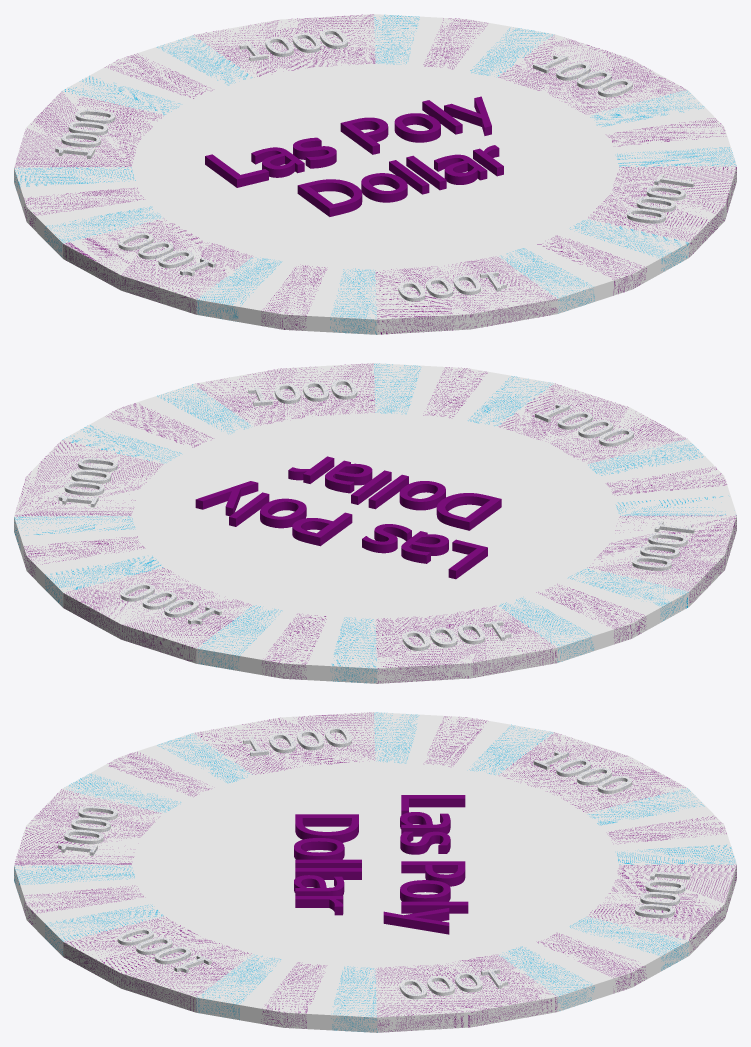
Rendered from thousandLPD.obj.
3 views of the same model, one above another, from view 1: azimuth 30°, elevation 25°; view 2: azimuth 150°, elevation 25°; view 3: azimuth 270°, elevation 25° (orthographic).
Visible parts, largest first — view 1: Mesh139 Model, Mesh25 Las_Poly_Dollar_1_1 Model, Mesh21 Las_Poly_Dollar_1_1 Model, Mesh29 Las_Poly_Dollar_1_1 Model, Mesh19 Las_Poly_Dollar_1_1 Model, Mesh26 Las_Poly_Dollar_1_1 Model, Mesh22 Las_Poly_Dollar_1_1 Model, Mesh20 Las_Poly_Dollar_1_1 Model, Mesh18 Las_Poly_Dollar_1_1 Model, Mesh24 Las_Poly_Dollar_1_1 Model, Mesh28 Las_Poly_Dollar_1_1 Model, Mesh30 Las_Poly_Dollar_1_1 Model (+2 smaller); view 2: Mesh139 Model, Mesh25 Las_Poly_Dollar_1_1 Model, Mesh21 Las_Poly_Dollar_1_1 Model, Mesh19 Las_Poly_Dollar_1_1 Model, Mesh29 Las_Poly_Dollar_1_1 Model, Mesh26 Las_Poly_Dollar_1_1 Model, Mesh22 Las_Poly_Dollar_1_1 Model, Mesh24 Las_Poly_Dollar_1_1 Model, Mesh20 Las_Poly_Dollar_1_1 Model, Mesh18 Las_Poly_Dollar_1_1 Model, Mesh30 Las_Poly_Dollar_1_1 Model, Mesh28 Las_Poly_Dollar_1_1 Model (+2 smaller); view 3: Mesh139 Model, Mesh25 Las_Poly_Dollar_1_1 Model, Mesh21 Las_Poly_Dollar_1_1 Model, Mesh24 Las_Poly_Dollar_1_1 Model, Mesh22 Las_Poly_Dollar_1_1 Model, Mesh26 Las_Poly_Dollar_1_1 Model, Mesh19 Las_Poly_Dollar_1_1 Model, Mesh20 Las_Poly_Dollar_1_1 Model, Mesh29 Las_Poly_Dollar_1_1 Model, Mesh18 Las_Poly_Dollar_1_1 Model, Mesh23 Las_Poly_Dollar_1_1 Model, Mesh28 Las_Poly_Dollar_1_1 Model (+2 smaller).
Boxes of the visible parts, bbox=[...] form: Mesh139 Model: bbox=[14, 14, 736, 334]; Mesh25 Las_Poly_Dollar_1_1 Model: bbox=[297, 179, 362, 216]; Mesh21 Las_Poly_Dollar_1_1 Model: bbox=[340, 117, 388, 154]; Mesh29 Las_Poly_Dollar_1_1 Model: bbox=[434, 154, 487, 184]; Mesh19 Las_Poly_Dollar_1_1 Model: bbox=[251, 147, 304, 177]; Mesh26 Las_Poly_Dollar_1_1 Model: bbox=[361, 173, 407, 202]; Mesh22 Las_Poly_Dollar_1_1 Model: bbox=[394, 113, 440, 142]; Mesh20 Las_Poly_Dollar_1_1 Model: bbox=[293, 137, 336, 168]; Mesh18 Las_Poly_Dollar_1_1 Model: bbox=[205, 154, 268, 187]; Mesh24 Las_Poly_Dollar_1_1 Model: bbox=[444, 96, 491, 135]; Mesh28 Las_Poly_Dollar_1_1 Model: bbox=[406, 155, 446, 190]; Mesh30 Las_Poly_Dollar_1_1 Model: bbox=[473, 145, 503, 176]; Mesh139 Model: bbox=[14, 363, 736, 683]; Mesh25 Las_Poly_Dollar_1_1 Model: bbox=[436, 493, 501, 530]; Mesh21 Las_Poly_Dollar_1_1 Model: bbox=[292, 512, 352, 546]; Mesh19 Las_Poly_Dollar_1_1 Model: bbox=[401, 531, 448, 563]; Mesh29 Las_Poly_Dollar_1_1 Model: bbox=[325, 460, 372, 493]; Mesh26 Las_Poly_Dollar_1_1 Model: bbox=[399, 481, 445, 510]; Mesh22 Las_Poly_Dollar_1_1 Model: bbox=[260, 498, 306, 528]; Mesh24 Las_Poly_Dollar_1_1 Model: bbox=[195, 481, 258, 516]; Mesh20 Las_Poly_Dollar_1_1 Model: bbox=[362, 524, 411, 553]; Mesh18 Las_Poly_Dollar_1_1 Model: bbox=[448, 539, 487, 579]; Mesh30 Las_Poly_Dollar_1_1 Model: bbox=[288, 456, 334, 483]; Mesh28 Las_Poly_Dollar_1_1 Model: bbox=[351, 470, 391, 504]; Mesh139 Model: bbox=[14, 712, 736, 1032]; Mesh25 Las_Poly_Dollar_1_1 Model: bbox=[295, 814, 358, 842]; Mesh21 Las_Poly_Dollar_1_1 Model: bbox=[401, 861, 465, 886]; Mesh24 Las_Poly_Dollar_1_1 Model: bbox=[383, 908, 449, 934]; Mesh22 Las_Poly_Dollar_1_1 Model: bbox=[400, 880, 450, 901]; Mesh26 Las_Poly_Dollar_1_1 Model: bbox=[294, 838, 344, 859]; Mesh19 Las_Poly_Dollar_1_1 Model: bbox=[400, 812, 450, 836]; Mesh20 Las_Poly_Dollar_1_1 Model: bbox=[400, 831, 450, 854]; Mesh29 Las_Poly_Dollar_1_1 Model: bbox=[294, 875, 344, 895]; Mesh18 Las_Poly_Dollar_1_1 Model: bbox=[401, 795, 465, 814]; Mesh23 Las_Poly_Dollar_1_1 Model: bbox=[401, 901, 468, 913]; Mesh28 Las_Poly_Dollar_1_1 Model: bbox=[295, 868, 361, 879].
Size of the model in its own units: 21.5 by 0.78 by 21.5.
